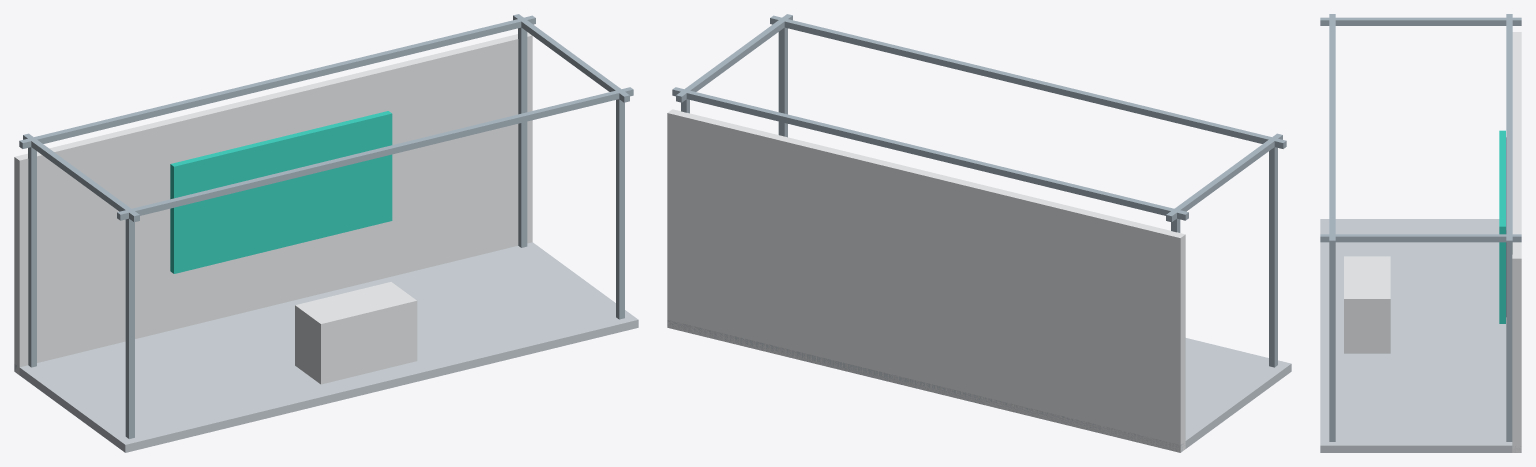
3 views of the same model, side by side, from view 1: azimuth 30°, elevation 25°; view 2: azimuth 150°, elevation 25°; view 3: azimuth 270°, elevation 25° (orthographic). The views are drawn at different scales.
Parts seen in each view (by area): view 1: Exhibition Booth Concept; view 2: Exhibition Booth Concept; view 3: Exhibition Booth Concept.
Boxes of the visible parts, x1,y1,x2,y2 form: Exhibition Booth Concept: [14, 14, 638, 452]; Exhibition Booth Concept: [667, 14, 1291, 452]; Exhibition Booth Concept: [1320, 14, 1521, 452].
Size of the model in its own units: 8 by 3.49 by 3.
